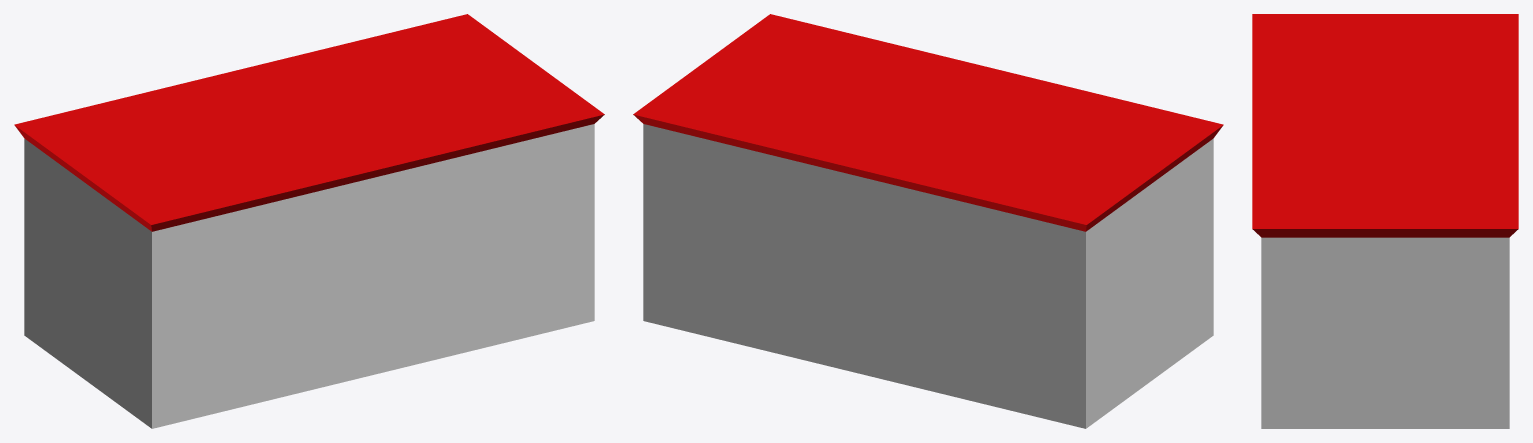
File: House3LOD.fbx
3 renders of one model, left to right at view 1: azimuth 30°, elevation 25°; view 2: azimuth 150°, elevation 25°; view 3: azimuth 270°, elevation 25°, orthographic. The views are drawn at different scales.
Parts seen in each view (by area): view 1: House3_LOD1; view 2: House3_LOD1; view 3: House3_LOD1.
Part boxes in pixels (x1,y1,x2,y2): House3_LOD1: (14,14,604,428); House3_LOD1: (633,14,1223,428); House3_LOD1: (1252,14,1518,428).
Bounding box in the file's own units: 1025 × 450 × 537.
